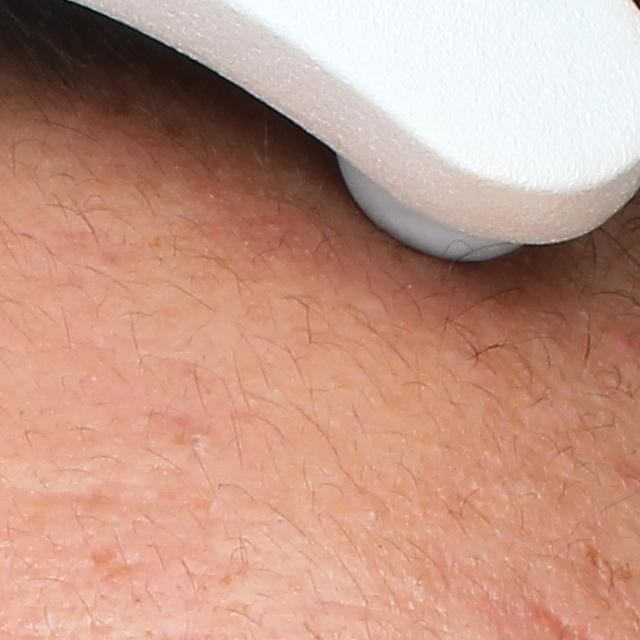atrophic_scar: (36, 479, 115, 511), (91, 544, 136, 588)
comedo: (363, 504, 384, 522)
